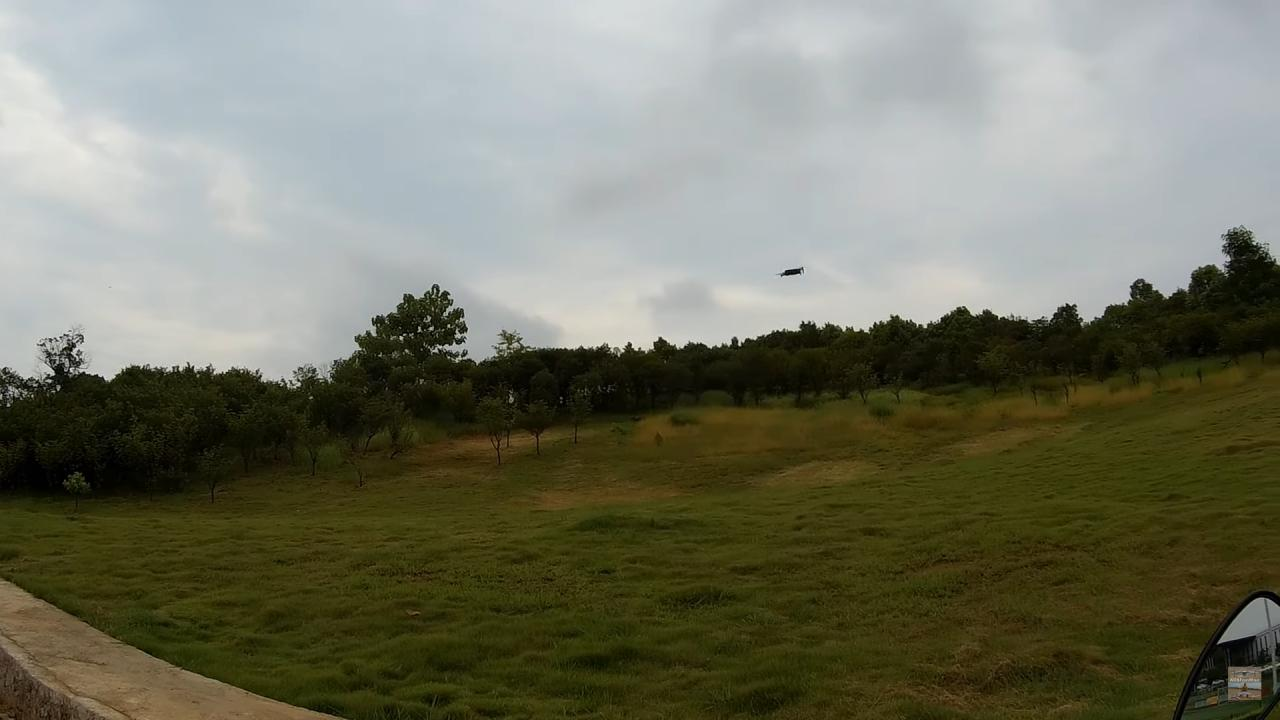Drone: (768, 258, 814, 288)
